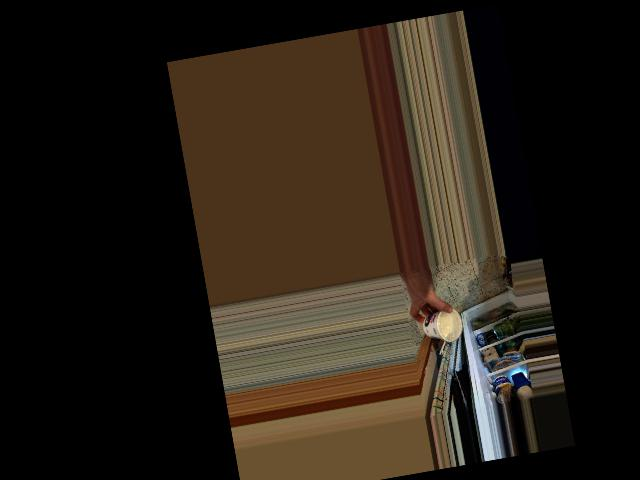cotage: (421, 306, 464, 342)
